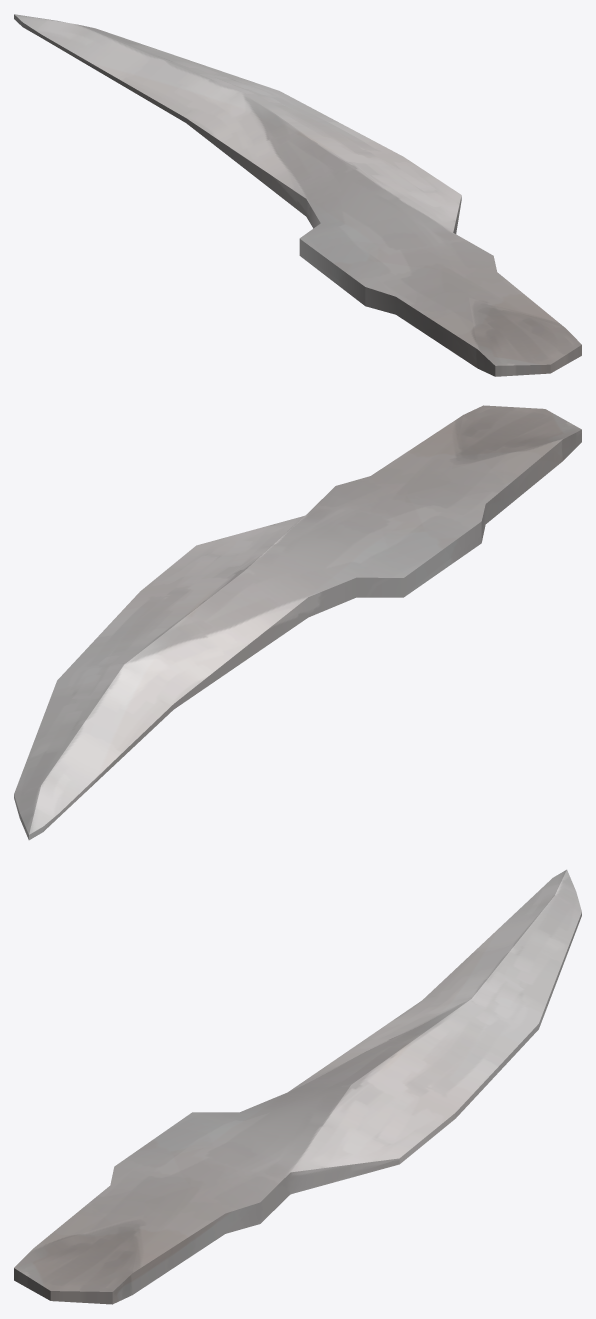
Rendered from blade3.FBX.
3 views of the same model, one above another, from view 1: azimuth 30°, elevation 25°; view 2: azimuth 150°, elevation 25°; view 3: azimuth 330°, elevation 25° (orthographic). The views are drawn at different scales.
Visible parts, largest first — view 1: blade003; view 2: blade003; view 3: blade003.
Part boxes in pixels (x1=…): blade003: x1=14, y1=14, x2=581, y2=376; blade003: x1=14, y1=405, x2=581, y2=840; blade003: x1=14, y1=869, x2=581, y2=1304.
Size of the model in its own units: 0.2072 by 1.02 by 0.0545.
